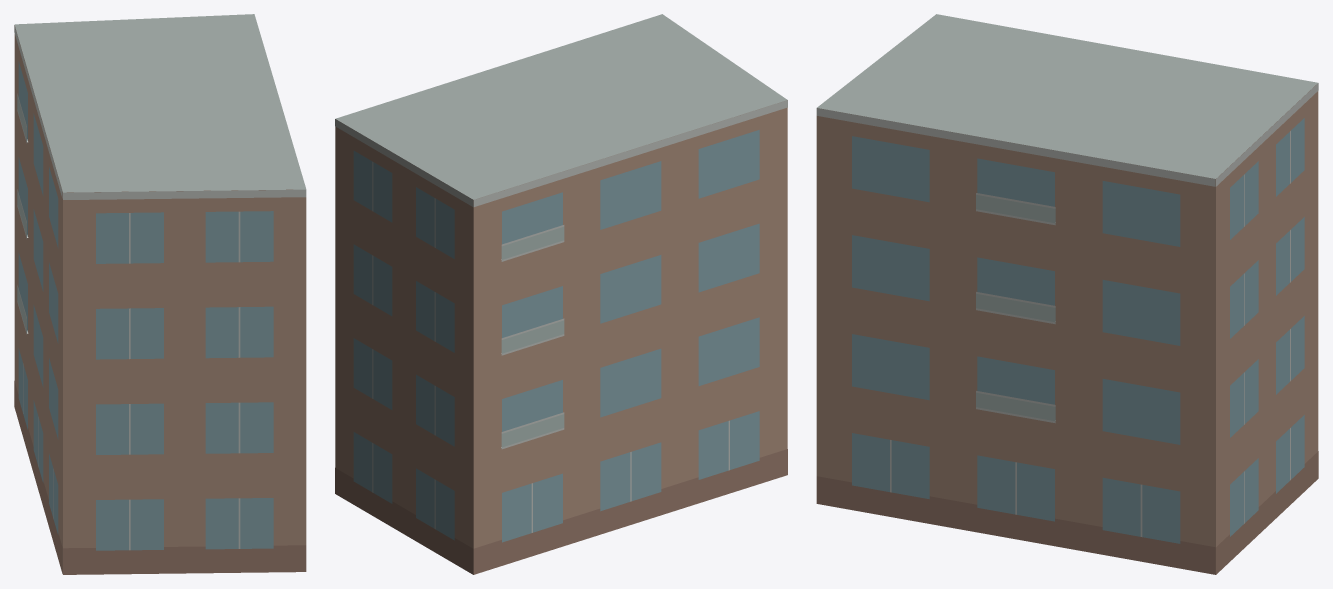
The model's file is survey-upis-32643376.glb.
The picture shows the model from 3 angles, left to right: view 1: azimuth 30°, elevation 25°; view 2: azimuth 150°, elevation 25°; view 3: azimuth 270°, elevation 25°; orthographic projection. The views are drawn at different scales.
Parts seen in each view (by area): view 1: survey-upis-32643376.tmp; view 2: survey-upis-32643376.tmp; view 3: survey-upis-32643376.tmp.
Boxes of the visible parts, x1=… form: survey-upis-32643376.tmp: x1=14, y1=14, x2=306, y2=574; survey-upis-32643376.tmp: x1=335, y1=14, x2=787, y2=574; survey-upis-32643376.tmp: x1=816, y1=14, x2=1318, y2=574.
Size of the model in its own units: 10.91 by 12.2 by 14.02.
